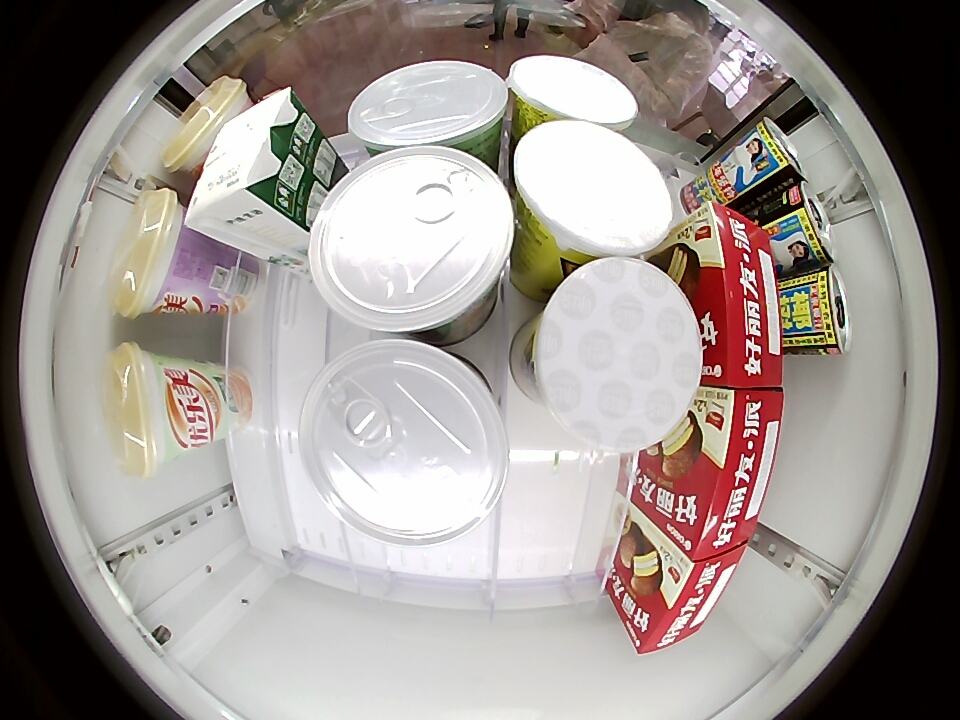haitai: (298, 336, 510, 548), (308, 144, 516, 342), (348, 58, 511, 157)
haoliyou: (665, 386, 784, 560), (682, 204, 784, 388), (626, 539, 747, 655)
jindian: (187, 131, 293, 240), (213, 86, 302, 156)
kebike: (530, 255, 704, 454), (512, 120, 674, 264), (507, 53, 639, 132)
yezhi: (778, 181, 837, 267), (800, 265, 851, 359), (750, 117, 807, 187)
youlemei: (110, 185, 190, 321), (105, 341, 181, 480), (163, 75, 246, 177)
